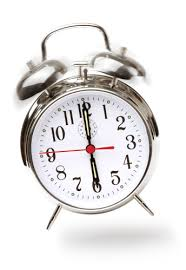alarm_clock: (16, 21, 157, 229)
